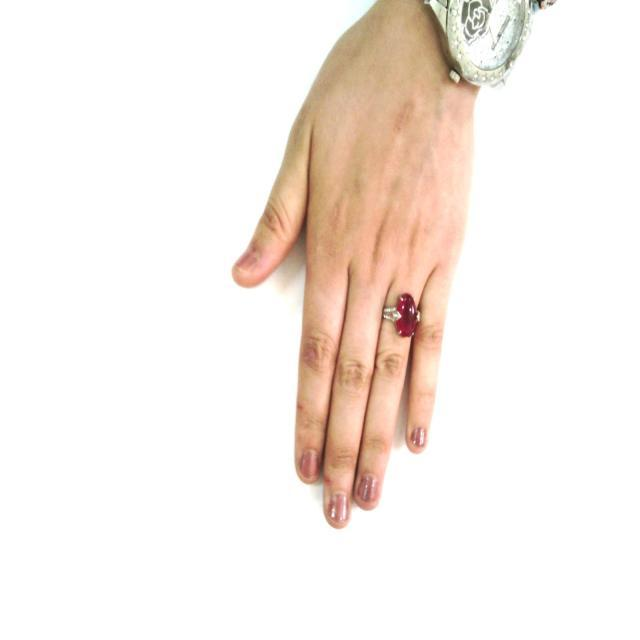Fingernail: (328, 494, 349, 525), (358, 475, 379, 503), (235, 248, 258, 271), (300, 452, 318, 480), (411, 428, 426, 447)
